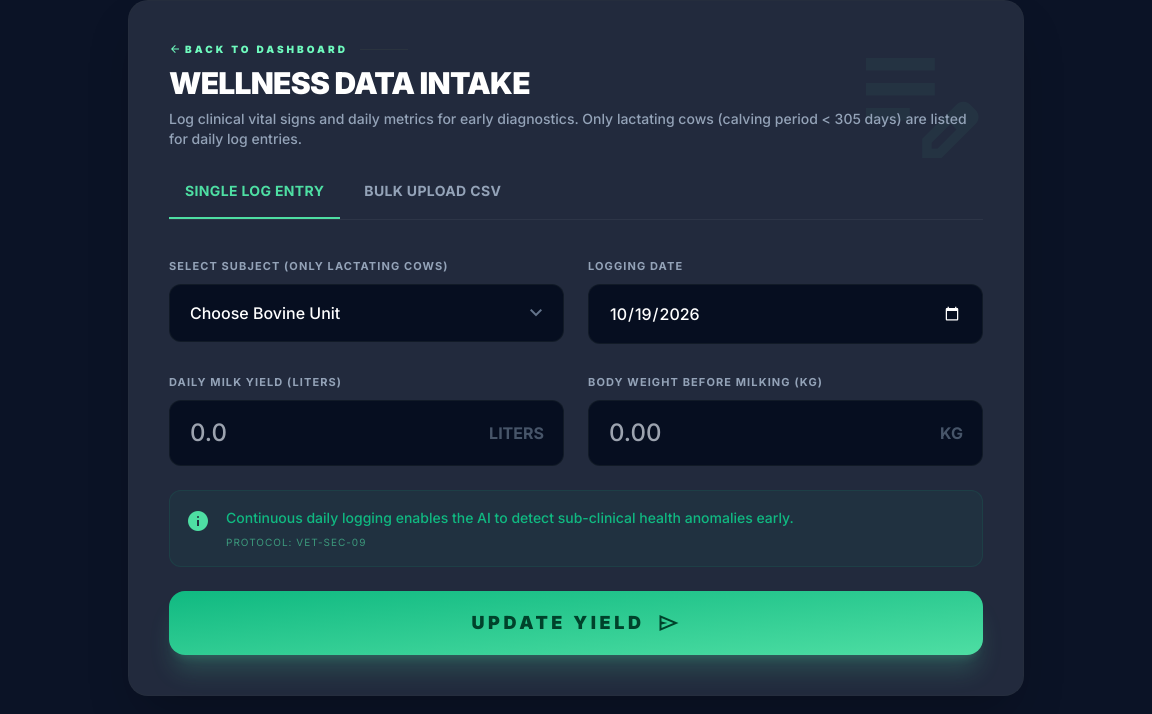
WellnessDataIntake - Bulk CSV Upload & Automated Monitoring › displays Clinical Anomaly Detected modal on anomaly and closes it when Dismiss is clicked
Note: Select subject animal
Select "kiri katiya (Jersey) - Day 172" in the dropdown at (366, 313), box top-left (169, 284), bottom-right (564, 342)
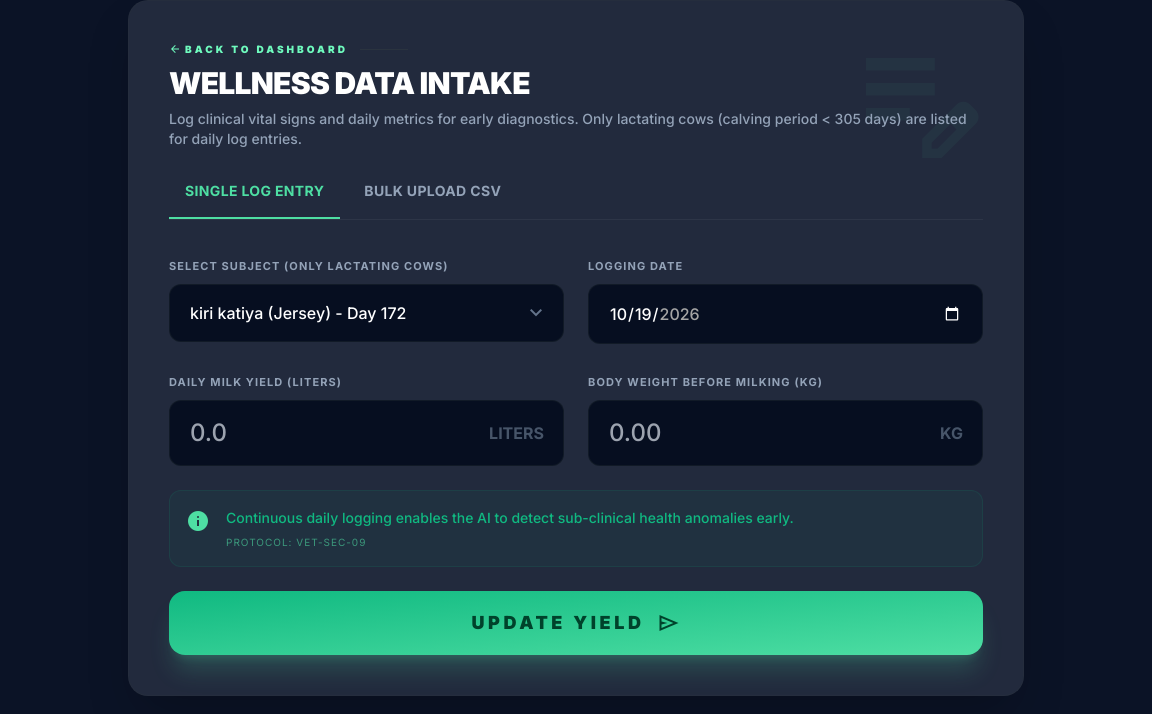
Type "2026-10-15" into the date field named "date" at (786, 314), box top-left (588, 284), bottom-right (983, 344)
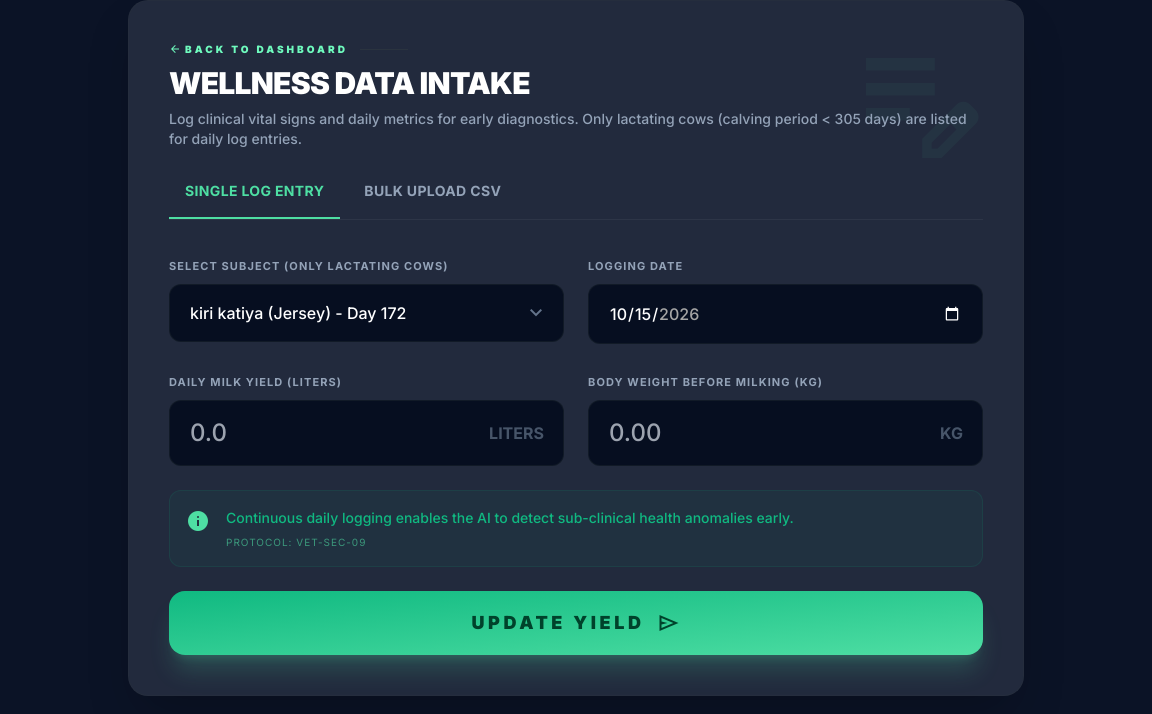
Type "6.5" into the number field named "milk_yield" at (366, 433), box top-left (169, 400), bottom-right (564, 466)
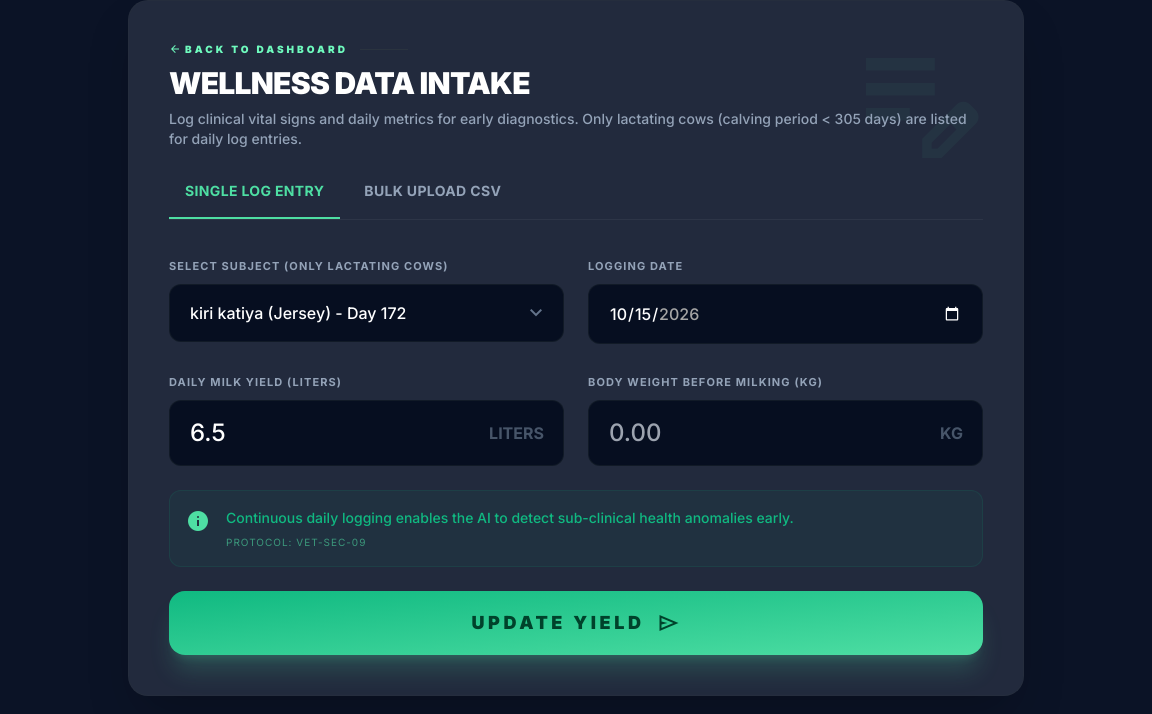
Type "380.0" into the number field named "weight" at (786, 433), box top-left (588, 400), bottom-right (983, 466)
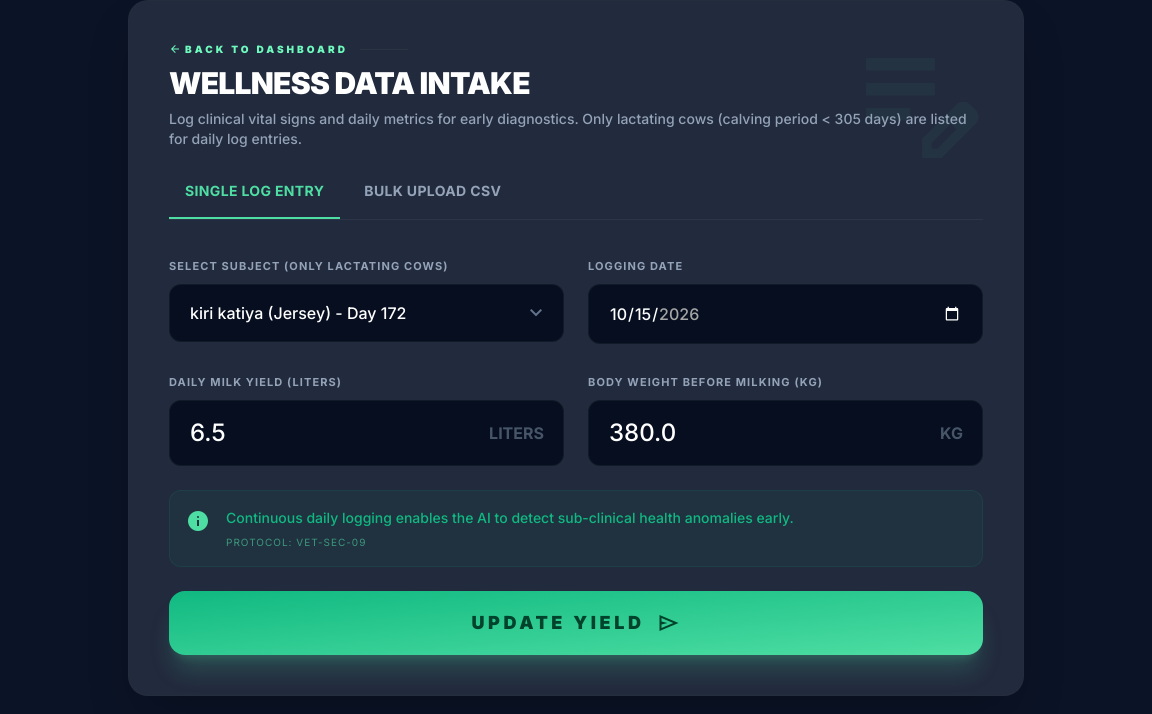
Note: Submit single log form
Click the text "Update Yield" at (558, 623), box top-left (471, 609), bottom-right (645, 637)
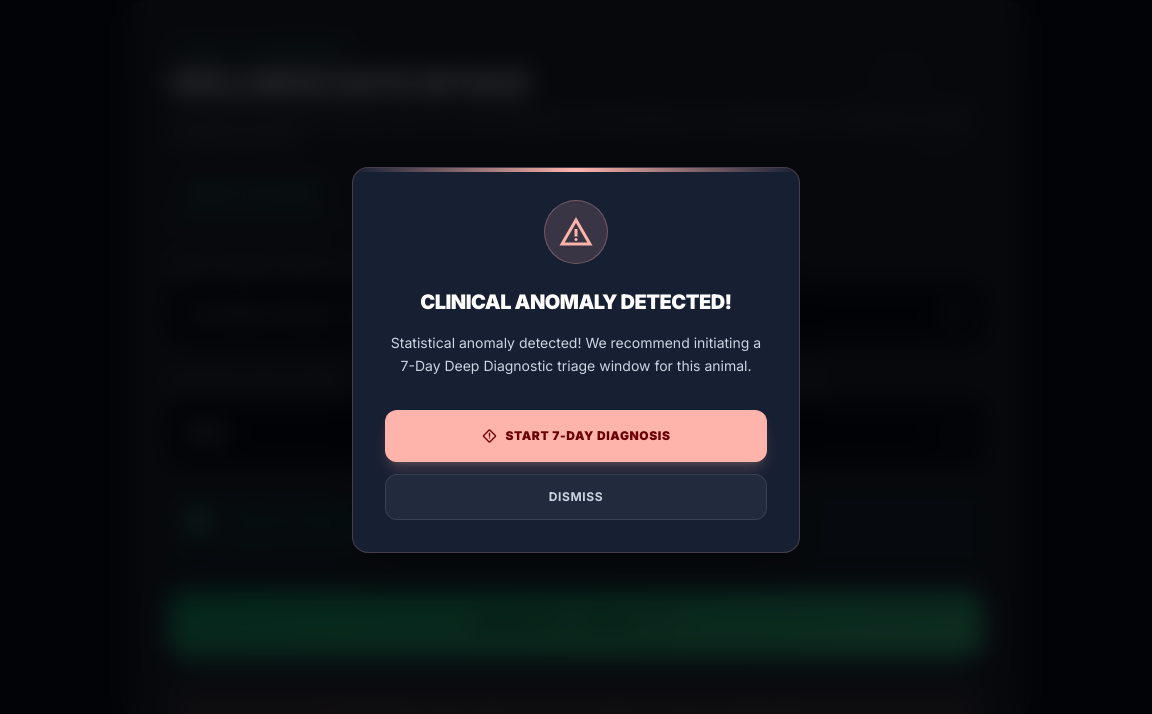
expect the heading "Clinical Anomaly Detected!" is shown: met, box top-left (420, 288), bottom-right (732, 316)
expect the button with test id "modal-dismiss" is shown: met
Click the button with test id "modal-dismiss" at (576, 497), box top-left (385, 474), bottom-right (767, 520)
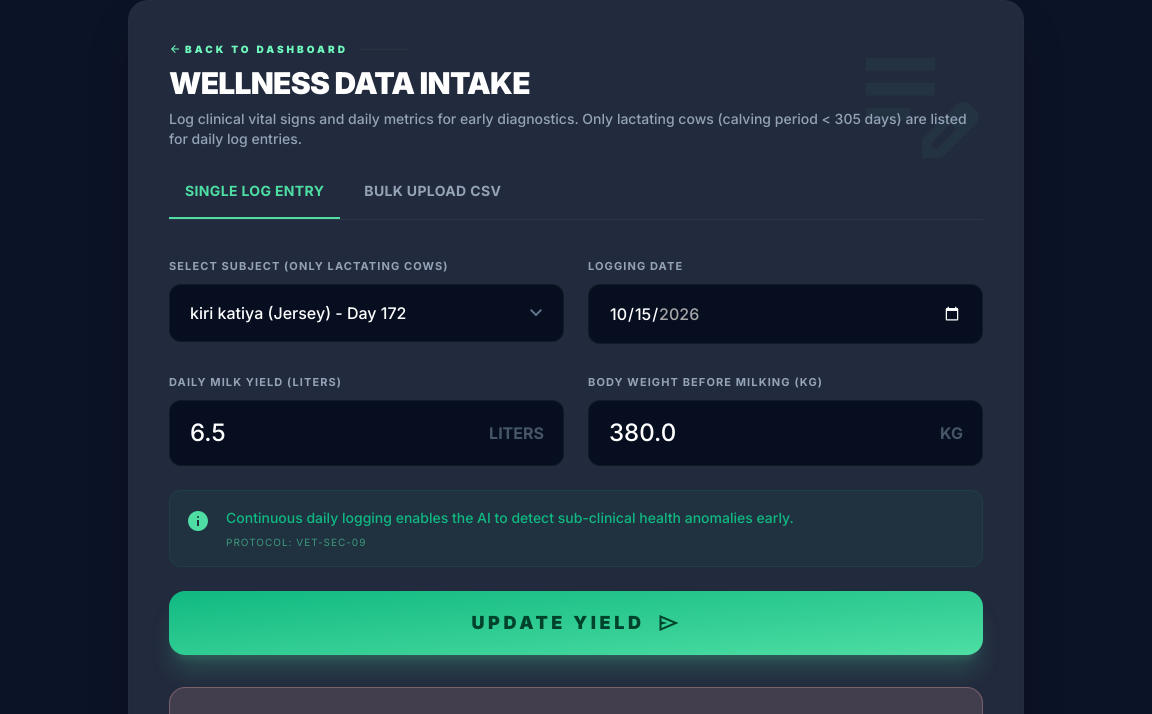
expect the heading "Clinical Anomaly Detected!" is gone: met
